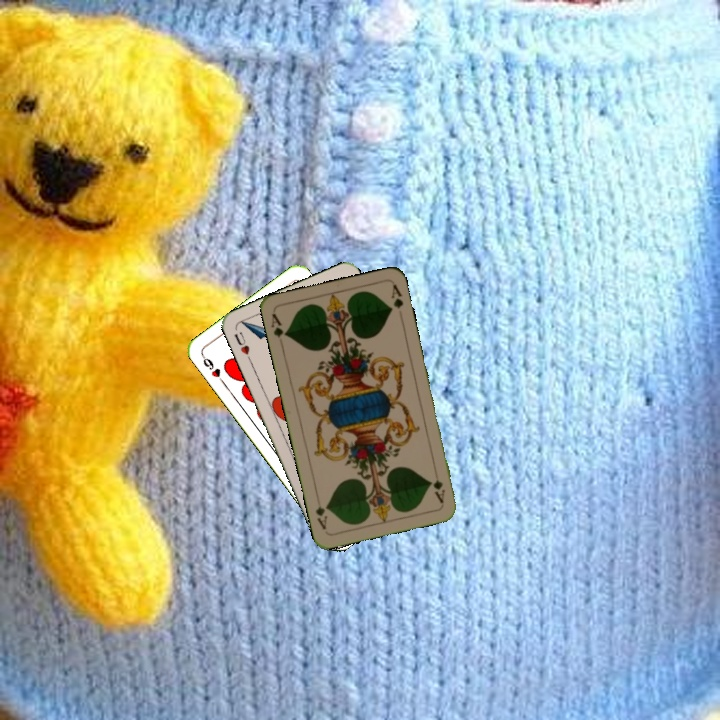GA: (267, 309, 290, 349), (428, 475, 447, 505)
H9: (198, 351, 227, 386)
HU: (230, 328, 254, 364)
